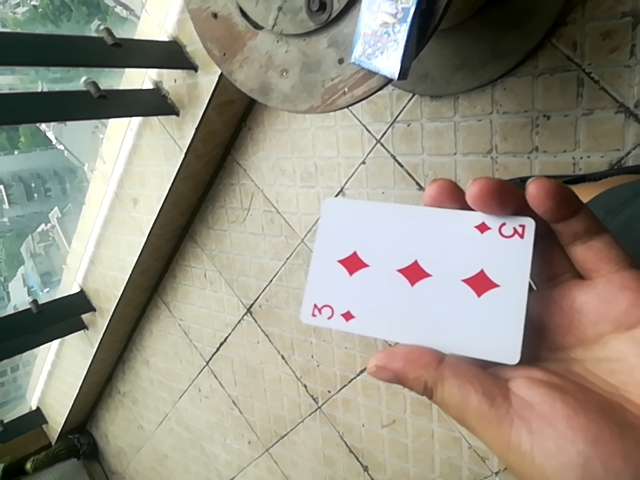fk 3: (293, 195, 540, 364)
